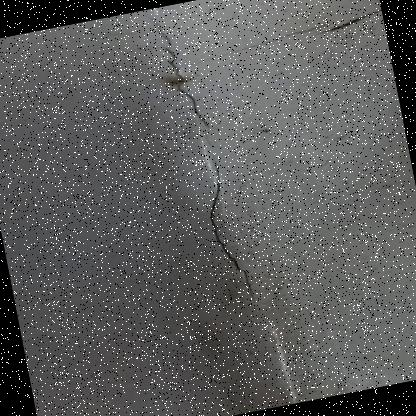Crack: (129, 0, 275, 314), (191, 0, 385, 66)
